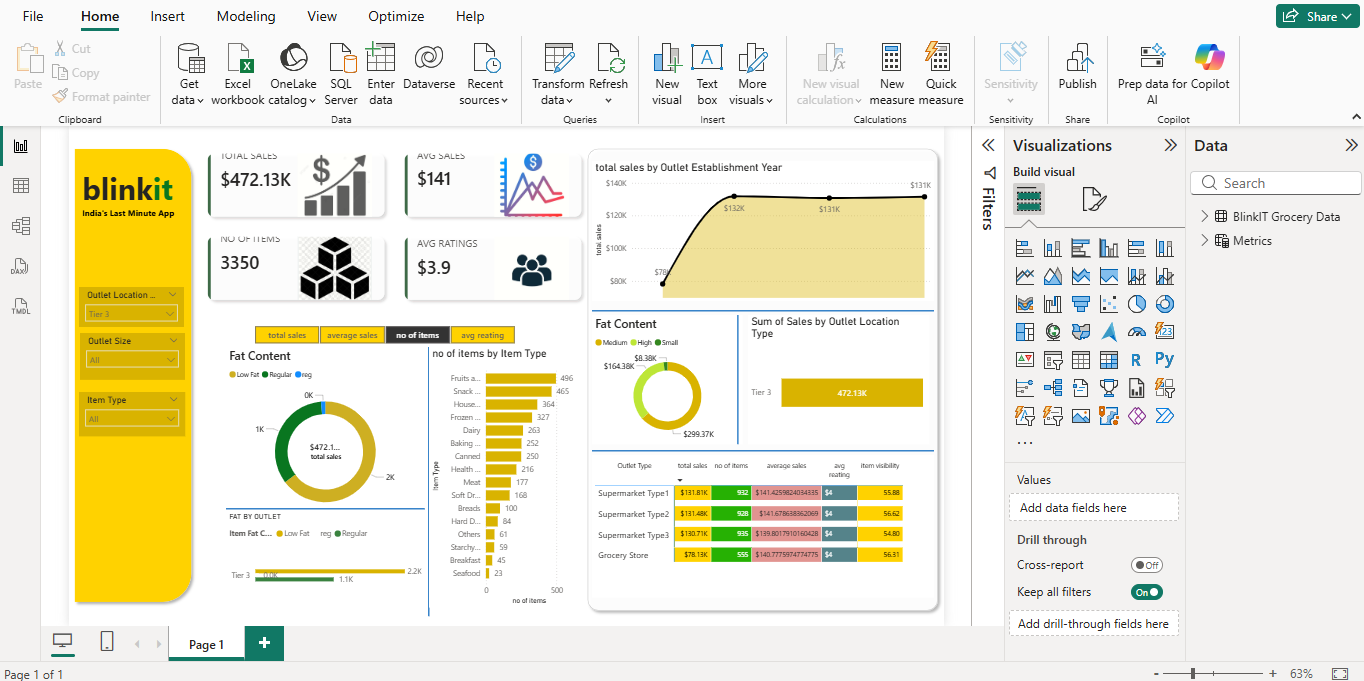

This screenshot's page, from the dashboard's own definition file:
{"tool":"powerbi","page":{"name":"Page 1","canvas":[1400,800],"ordinal":0},"visuals":[{"type":"shape","box":[0,27.8,204.9,743.3],"z":0},{"type":"textbox","box":[15.6,60.8,168.5,107.7],"z":1000},{"type":"cardVisual","fields":{"Data":["BlinkIT Grocery Data.total sales","BlinkIT Grocery Data.average sales","BlinkIT Grocery Data.no of items","BlinkIT Grocery Data.avg reating"]},"box":[204.9,27.8,632.1,269.2],"z":2000},{"type":"shape","box":[821.4,27.8,578.3,757.2],"z":3000},{"type":"donutChart","title":"Fat Content","fields":{"Y":["BlinkIT Grocery Data.no of items"],"Category":["BlinkIT Grocery Data.Item Fat Content"],"Series":["BlinkIT Grocery Data.Item Fat Content"]},"box":[251.8,354.3,317.8,283.1],"z":4000},{"type":"slicer","fields":{"Values":["Metrics.Metrics"]},"box":[272.7,314.3,465.4,39.9],"z":5000},{"type":"cardVisual","fields":{"Data":["BlinkIT Grocery Data.total sales"]},"box":[368.2,493.2,86.8,53.8],"z":6000},{"type":"clusteredBarChart","title":"FAT BY OUTLET","fields":{"Y":["BlinkIT Grocery Data.no of items"],"Category":["BlinkIT Grocery Data.Outlet Location Type"],"Series":["BlinkIT Grocery Data.Item Fat Content"]},"box":[251.8,618.2,317.8,152.8],"z":7000},{"type":"shape","box":[251.8,606.1,317.8,12.2],"z":8000},{"type":"shape","box":[569.6,354.3,12.2,430.7],"z":9000},{"type":"lineChart","fields":{"Y":["BlinkIT Grocery Data.total sales"],"Category":["BlinkIT Grocery Data.Outlet Establishment Year"]},"box":[837.1,55.6,547,224],"z":10000},{"type":"shape","box":[837.1,290,547,12.2],"z":11000},{"type":"donutChart","title":"Fat Content","fields":{"Y":["BlinkIT Grocery Data.total sales"],"Category":["BlinkIT Grocery Data.Outlet Size"]},"box":[837.1,302.2,241.4,206.7],"z":12000},{"type":"shape","box":[837.1,514,547,12.2],"z":13000},{"type":"shape","box":[1062.8,302.2,15.6,206.7],"z":14000},{"type":"pivotTable","fields":{"Rows":["BlinkIT Grocery Data.Outlet Type"],"Values":["BlinkIT Grocery Data.total sales","BlinkIT Grocery Data.no of items","BlinkIT Grocery Data.average sales","BlinkIT Grocery Data.avg reating","Sum(BlinkIT Grocery Data.Item Visibility)"]},"box":[837.1,526.2,547,227.5],"z":15000},{"type":"barChart","fields":{"Y":["BlinkIT Grocery Data.no of items"],"Category":["BlinkIT Grocery Data.Item Type"]},"box":[576.6,354.3,244.9,416.8],"z":16000},{"type":"funnel","fields":{"Y":["Sum(BlinkIT Grocery Data.Sales)"],"Category":["BlinkIT Grocery Data.Outlet Location Type"]},"box":[1087.1,302.2,290,206.7],"z":17000},{"type":"slicer","fields":{"Values":["BlinkIT Grocery Data.Outlet Location Type"]},"box":[15.6,257,168.5,64.3],"z":18000},{"type":"slicer","fields":{"Values":["BlinkIT Grocery Data.Outlet Size"]},"box":[17.4,331.7,168.5,74.7],"z":19000},{"type":"slicer","fields":{"Values":["BlinkIT Grocery Data.Item Type"]},"box":[15.6,425.5,170.2,71.2],"z":20000}]}

Visuals, with their boxes on the page's 1400x800 design canvas (x1, y1, x2, y2). These are canvas units, not pixel positions in the 1364x681 screenshot, which may show the page scaled, cropped or inside an application window:
shape: bbox=(0, 28, 205, 771)
textbox: bbox=(16, 61, 184, 168)
cardVisual - BlinkIT Grocery Data.total sales x BlinkIT Grocery Data.average sales: bbox=(205, 28, 837, 297)
shape: bbox=(821, 28, 1400, 785)
"Fat Content" donutChart: bbox=(252, 354, 570, 637)
slicer - Metrics.Metrics: bbox=(273, 314, 738, 354)
cardVisual - BlinkIT Grocery Data.total sales: bbox=(368, 493, 455, 547)
"FAT BY OUTLET" clusteredBarChart: bbox=(252, 618, 570, 771)
shape: bbox=(252, 606, 570, 618)
shape: bbox=(570, 354, 582, 785)
lineChart - BlinkIT Grocery Data.total sales x BlinkIT Grocery Data.Outlet Establishment Year: bbox=(837, 56, 1384, 280)
shape: bbox=(837, 290, 1384, 302)
"Fat Content" donutChart: bbox=(837, 302, 1078, 509)
shape: bbox=(837, 514, 1384, 526)
shape: bbox=(1063, 302, 1078, 509)
pivotTable - BlinkIT Grocery Data.Outlet Type x BlinkIT Grocery Data.total sales: bbox=(837, 526, 1384, 754)
barChart - BlinkIT Grocery Data.no of items x BlinkIT Grocery Data.Item Type: bbox=(577, 354, 822, 771)
funnel - Sum(BlinkIT Grocery Data.Sales) x BlinkIT Grocery Data.Outlet Location Type: bbox=(1087, 302, 1377, 509)
slicer - BlinkIT Grocery Data.Outlet Location Type: bbox=(16, 257, 184, 321)
slicer - BlinkIT Grocery Data.Outlet Size: bbox=(17, 332, 186, 406)
slicer - BlinkIT Grocery Data.Item Type: bbox=(16, 426, 186, 497)
